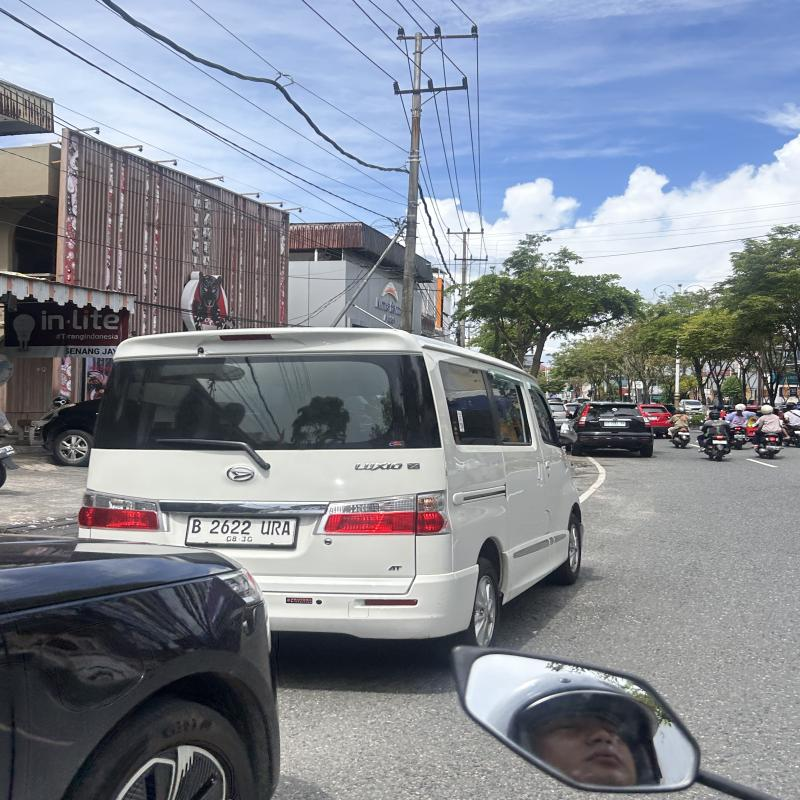license plate on a car: (187, 516, 295, 544)
